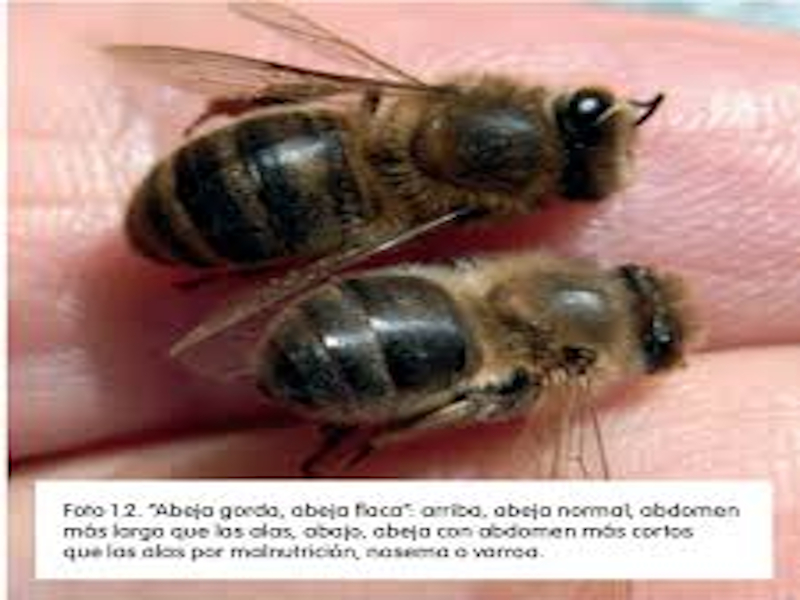abeja: (111, 3, 645, 254), (147, 239, 704, 471)
